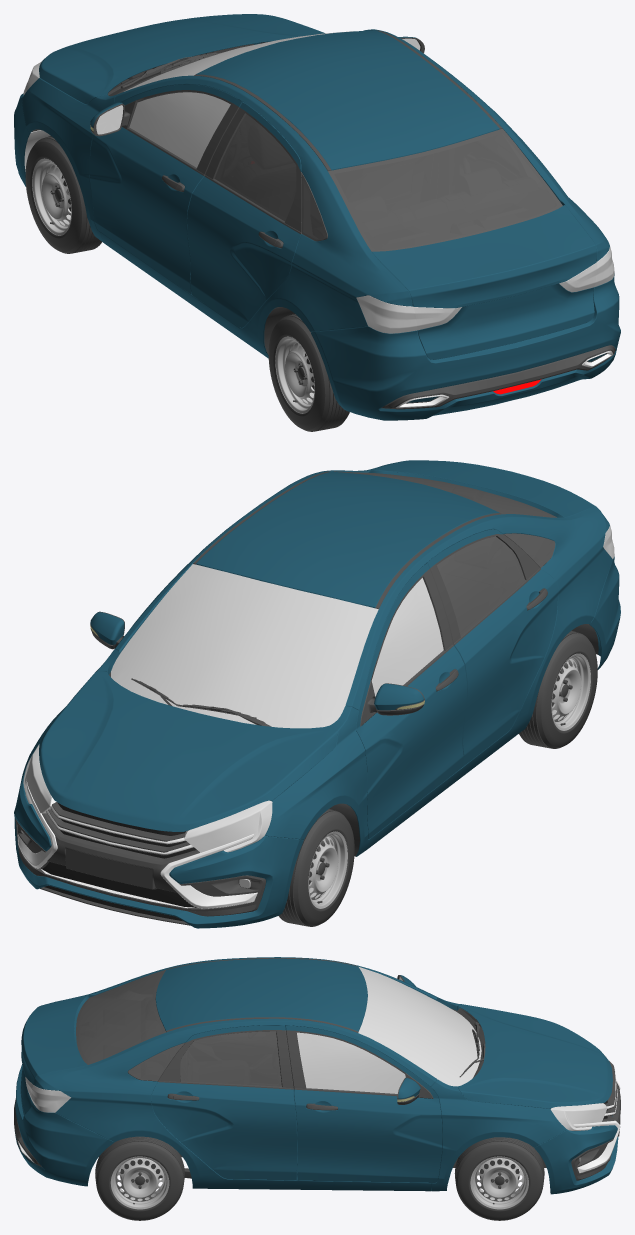
The model's file is lada_vesta.glb.
The picture shows the model from 3 angles, top to bottom: view 1: azimuth 30°, elevation 25°; view 2: azimuth 150°, elevation 25°; view 3: azimuth 270°, elevation 25°; orthographic projection. The views are drawn at different scales.
Parts seen in each view (by area): view 1: Kuzov, Bag, steklo (×3), doorPL, doorZL, kapot, wheel002, wheel003; view 2: Kuzov, steklo (×3), kapot, doorPL, doorZL, wheel003, wheel002, Bag, doorPP; view 3: Kuzov, doorPP, doorZP, steklo (×3), kapot, wheel001, wheel, Bag.
Part boxes in pixels (left/top/right/bottom): Kuzov: left=14, top=29, right=620, bottom=420; Bag: left=372, top=205, right=597, bottom=359; steklo (×3): left=124, top=31, right=562, bottom=251; doorPL: left=89, top=84, right=242, bottom=294; doorZL: left=187, top=102, right=301, bottom=327; kapot: left=39, top=14, right=324, bottom=104; wheel002: left=268, top=313, right=349, bottom=431; wheel003: left=25, top=136, right=101, bottom=253; Kuzov: left=14, top=460, right=620, bottom=928; steklo (×3): left=111, top=471, right=556, bottom=728; kapot: left=39, top=671, right=337, bottom=831; doorPL: left=356, top=563, right=467, bottom=838; doorZL: left=427, top=529, right=558, bottom=766; wheel003: left=278, top=809, right=354, bottom=926; wheel002: left=519, top=630, right=597, bottom=748; Bag: left=371, top=460, right=595, bottom=517; doorPP: left=90, top=611, right=124, bottom=649; Kuzov: left=14, top=957, right=620, bottom=1194; doorPP: left=285, top=1025, right=442, bottom=1182; doorZP: left=151, top=1025, right=297, bottom=1180; steklo (×3): left=76, top=967, right=481, bottom=1086; kapot: left=457, top=1004, right=612, bottom=1108; wheel001: left=95, top=1136, right=184, bottom=1220; wheel: left=454, top=1137, right=544, bottom=1220; Bag: left=20, top=995, right=89, bottom=1115.
Size of the model in its own units: 2.07 by 1.52 by 4.44.
